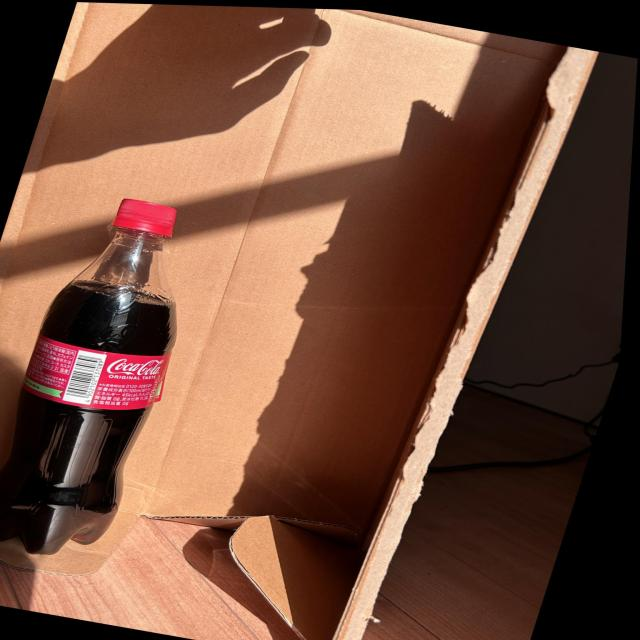high: (0, 198, 176, 555)
